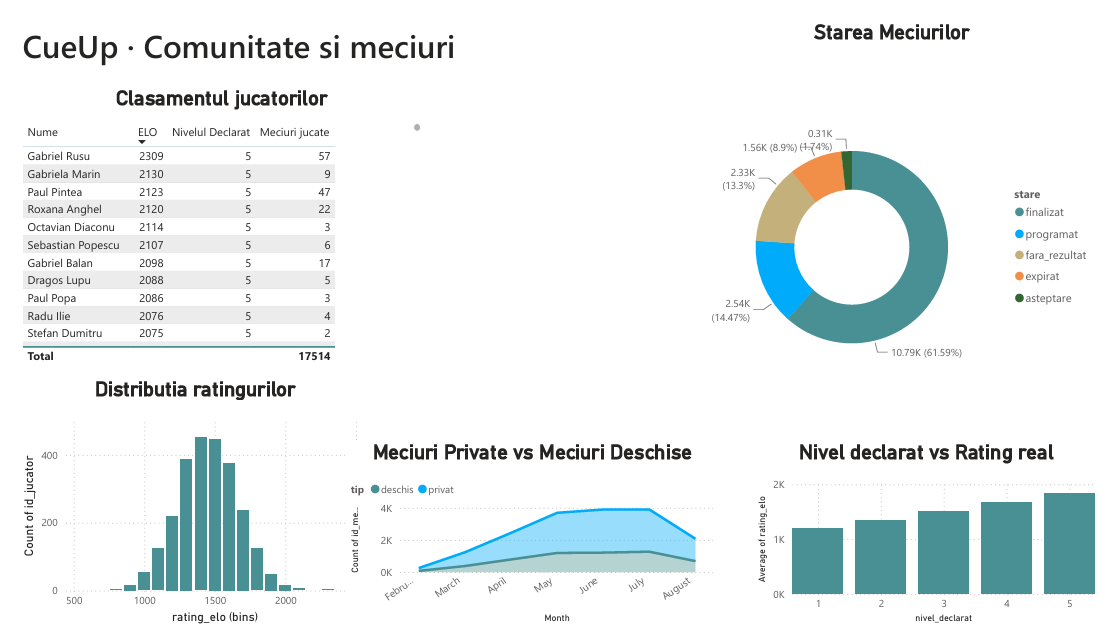

What the dashboard file says about the page in this screenshot:
{"tool":"powerbi","page":{"name":"Comunitate si Meciuri","canvas":[1280,720],"ordinal":1},"visuals":[{"type":"clusteredColumnChart","title":"Nivel declarat vs Rating real","fields":{"Category":["Jucatori.nivel_declarat"],"Y":["Avg(Jucatori.rating_elo)"]},"box":[870.8,498.5,409.2,221.8],"z":0},{"type":"clusteredColumnChart","title":"Distributia ratingurilor","fields":{"Category":["Jucatori.rating_elo (bins)"],"Y":["CountNonNull(Jucatori.id_jucator)"]},"box":[0,423.3,419.4,297.1],"z":1000},{"type":"donutChart","title":"Starea Meciurilor","fields":{"Category":["Meciuri.stare"],"Y":["CountNonNull(Meciuri.id_meci)"]},"box":[790.4,0,489.6,499.8],"z":2000},{"type":"stackedAreaChart","title":"Meciuri Private vs Meciuri Deschise","fields":{"Category":["Rezervari.Luna.Variation.Date Hierarchy.Month"],"Series":["Meciuri.tip"],"Y":["CountNonNull(Meciuri.id_meci)"]},"box":[388.8,498.5,439.8,221.8],"z":3000},{"type":"tableEx","title":"Clasamentul jucatorilor","fields":{"Values":["Jucatori.nume","Jucatori.rating_elo","Jucatori.nivel_declarat","CountNonNull(Meciuri.id_meci)"]},"box":[0,79,481.9,334],"z":4000},{"type":"textbox","box":[0,0,562.2,79],"z":4001}]}

Visuals, with their boxes in screenshot pixels (x1, y1, x2, y2), scaled from the page's 1280x720 canvas onto the 1116x642 screenshot:
"Nivel declarat vs Rating real" clusteredColumnChart: l=759, t=444, r=1115, b=641
"Distributia ratingurilor" clusteredColumnChart: l=0, t=377, r=366, b=641
"Starea Meciurilor" donutChart: l=689, t=0, r=1115, b=446
"Meciuri Private vs Meciuri Deschise" stackedAreaChart: l=339, t=444, r=722, b=641
"Clasamentul jucatorilor" tableEx: l=0, t=70, r=420, b=368
textbox: l=0, t=0, r=490, b=70
